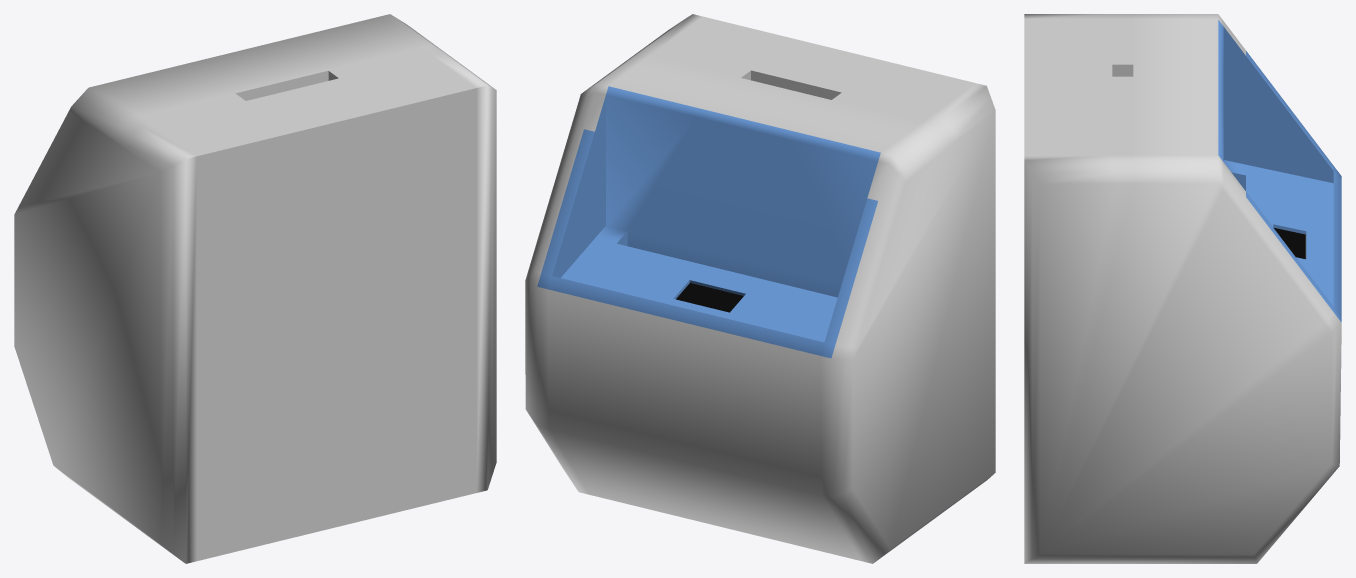
3 views of the same model, side by side, from view 1: azimuth 30°, elevation 25°; view 2: azimuth 150°, elevation 25°; view 3: azimuth 270°, elevation 25° (orthographic). The views are drawn at different scales.
Parts seen in each view (by area): view 1: Cube; view 2: Cube; view 3: Cube.
Part boxes in pixels (box(x1,y1,x2,y2)): Cube: box(14, 14, 496, 563); Cube: box(525, 14, 995, 563); Cube: box(1024, 14, 1341, 563).
Bounding box in the file's own units: 65.21 × 75.1 × 53.6.
